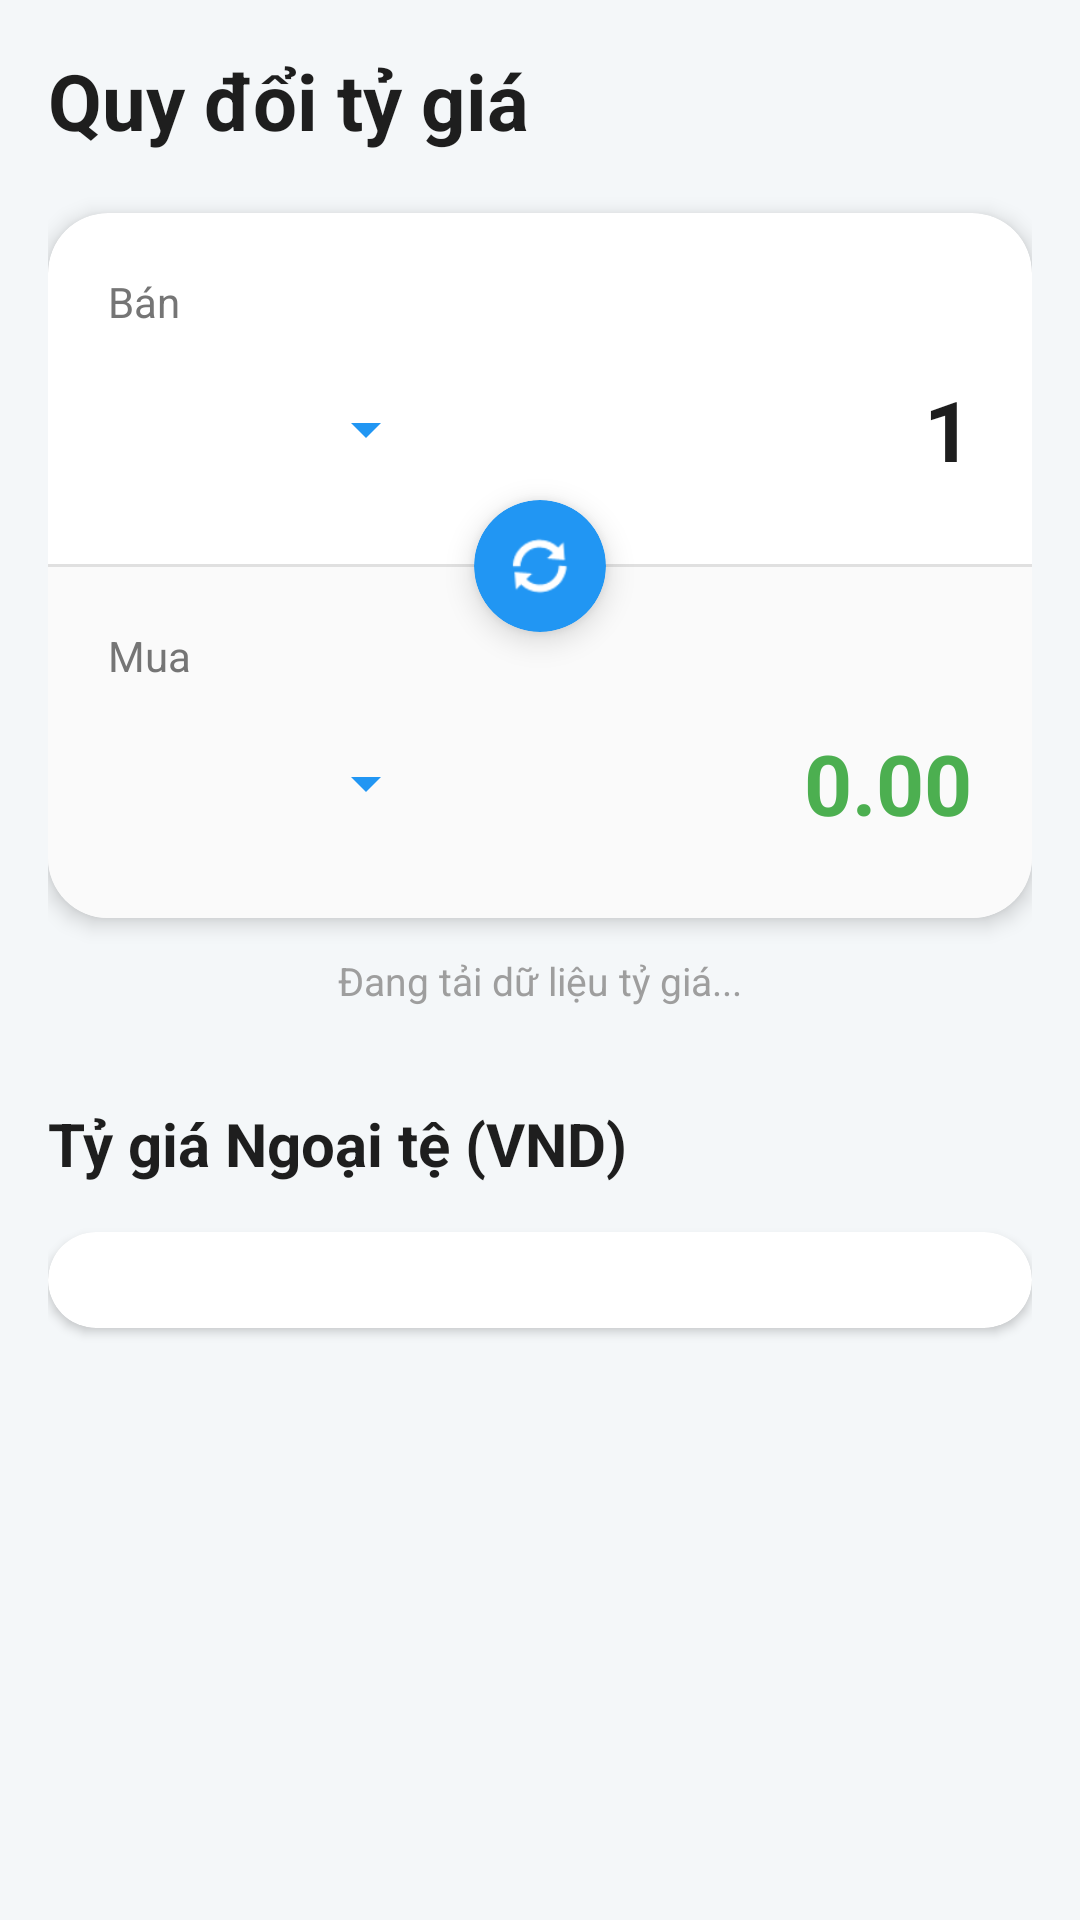

Icons on this 1080x1920 Android screen, each with the point to tap as (x=x, y=y):
popup sync: (x=540, y=566)
